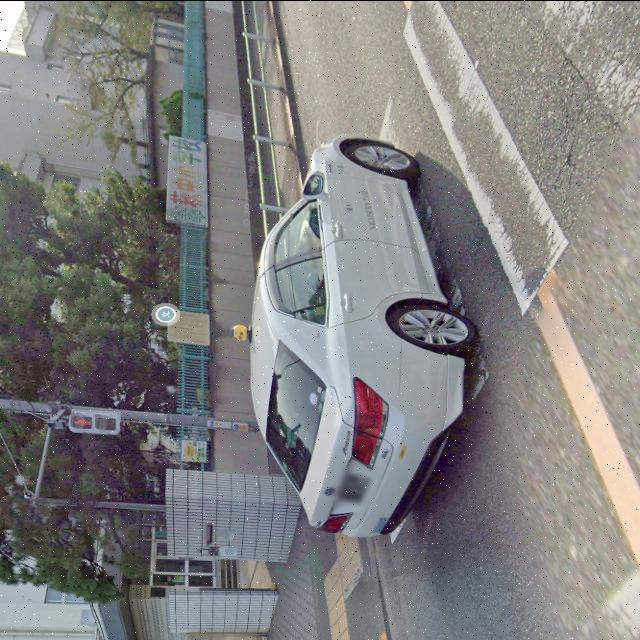traffic-light: (68, 406, 120, 438)
